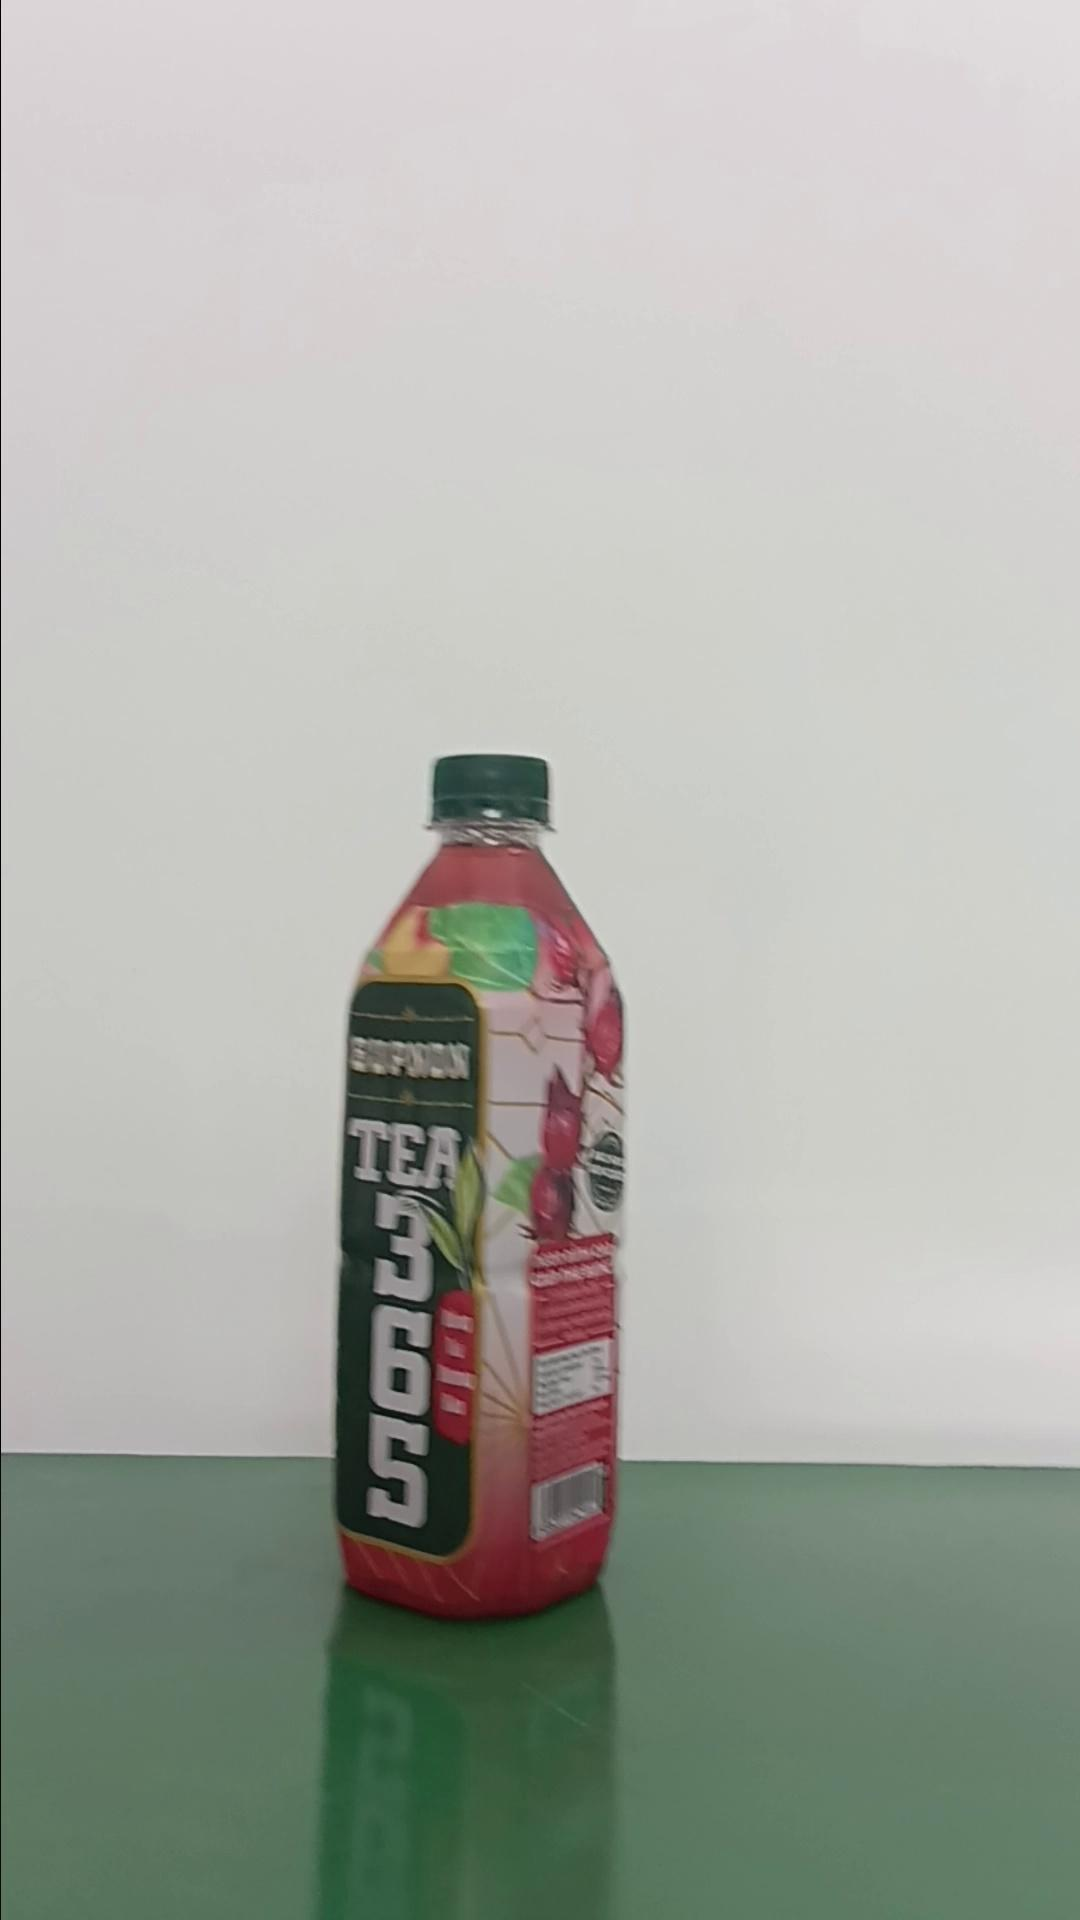khong loi: (330, 750, 629, 1619)
